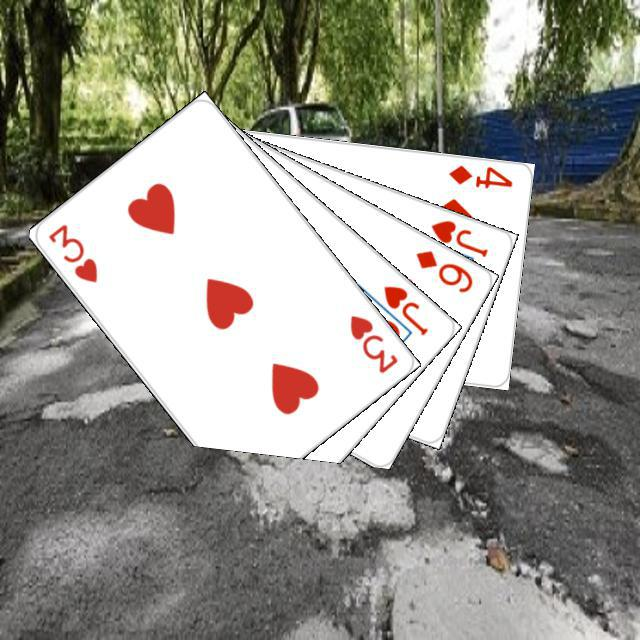3h: (43, 218, 100, 285), (344, 310, 400, 376)
4d: (444, 160, 514, 190)
6d: (411, 245, 475, 295)
Jh: (378, 280, 430, 337), (426, 215, 490, 259)
